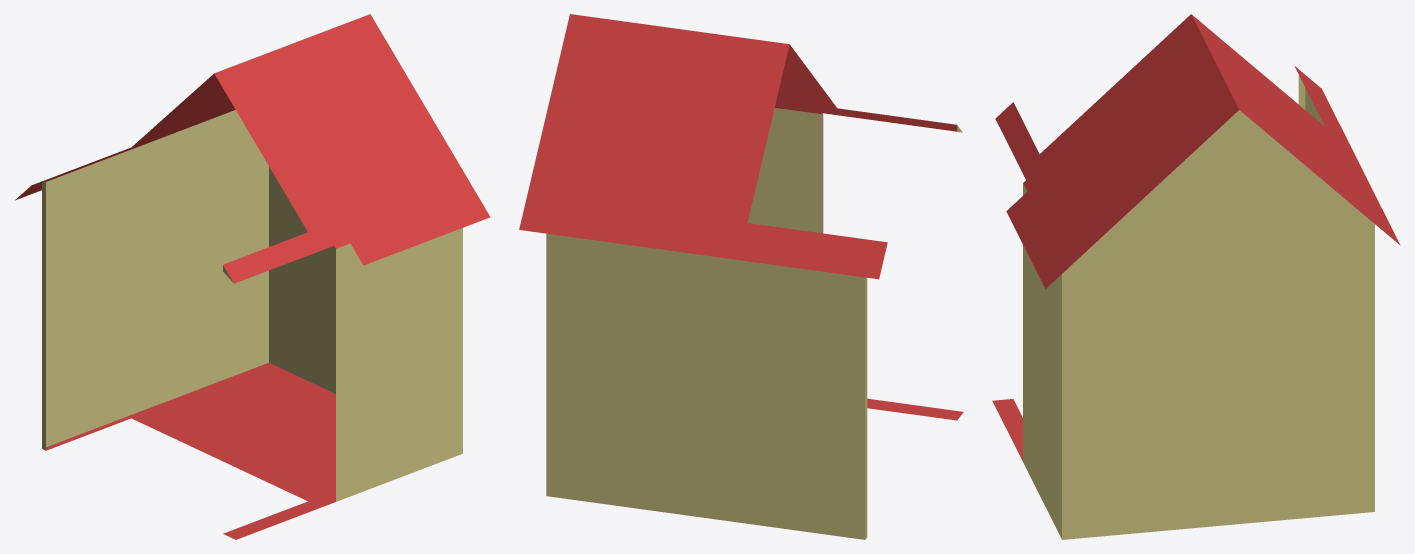
3 renders of one model, left to right at view 1: azimuth 30°, elevation 25°; view 2: azimuth 150°, elevation 25°; view 3: azimuth 270°, elevation 25°, orthographic. The views are drawn at different scales.
Bounding box in the file's own units: 15.49 × 14.16 × 16.2.
